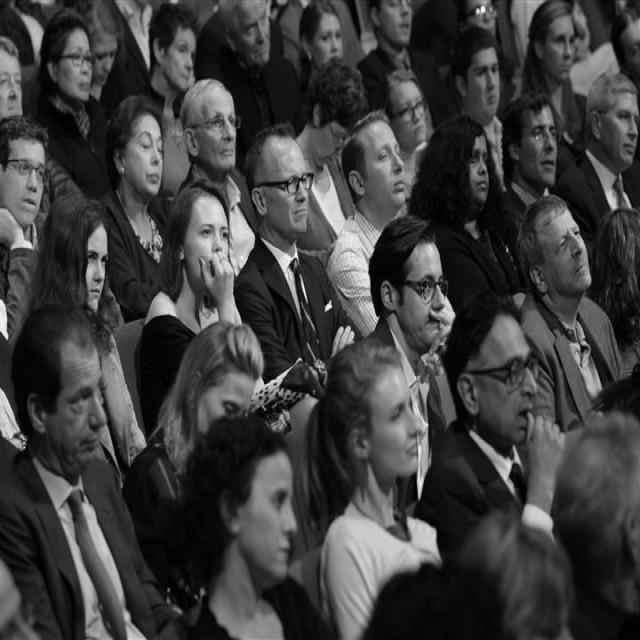person: (1, 308, 203, 640), (418, 304, 591, 640), (123, 321, 272, 624), (172, 416, 370, 640), (300, 346, 447, 640), (235, 128, 347, 391), (136, 184, 248, 432), (516, 197, 622, 448), (553, 372, 640, 640), (327, 117, 411, 340), (175, 79, 260, 273), (200, 0, 304, 148), (552, 74, 640, 241), (46, 187, 120, 336), (372, 212, 447, 345), (435, 106, 505, 246), (588, 205, 640, 384), (0, 113, 49, 296), (300, 59, 352, 181), (509, 96, 567, 196), (149, 0, 200, 112), (389, 71, 437, 164), (51, 15, 92, 121), (371, 0, 430, 69), (529, 0, 574, 84), (86, 0, 128, 85), (1, 25, 34, 131), (300, 0, 352, 67), (609, 9, 640, 96), (449, 0, 499, 51)
